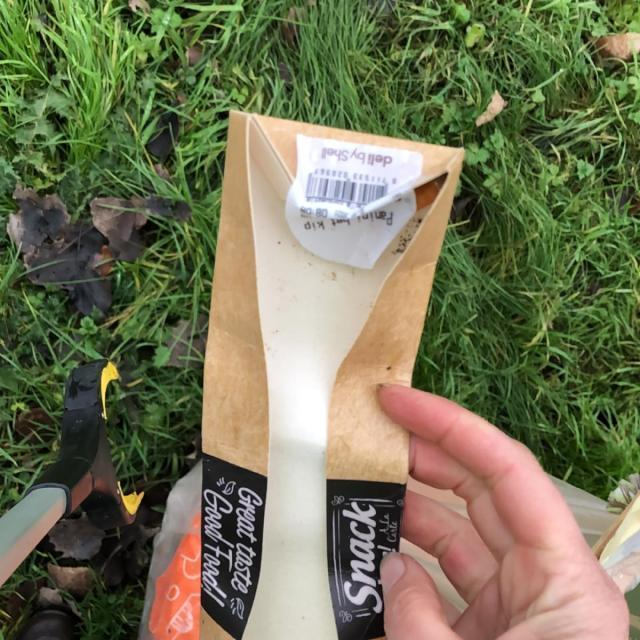Paper: (195, 107, 470, 640)
